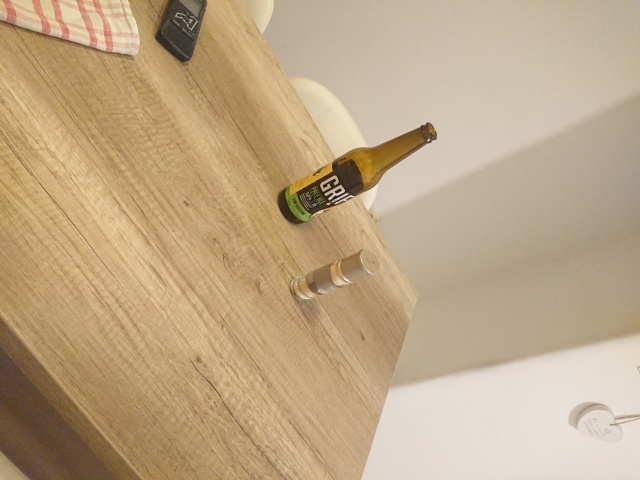Kotanyi Garlic Granules 70g: (288, 246, 382, 303)
